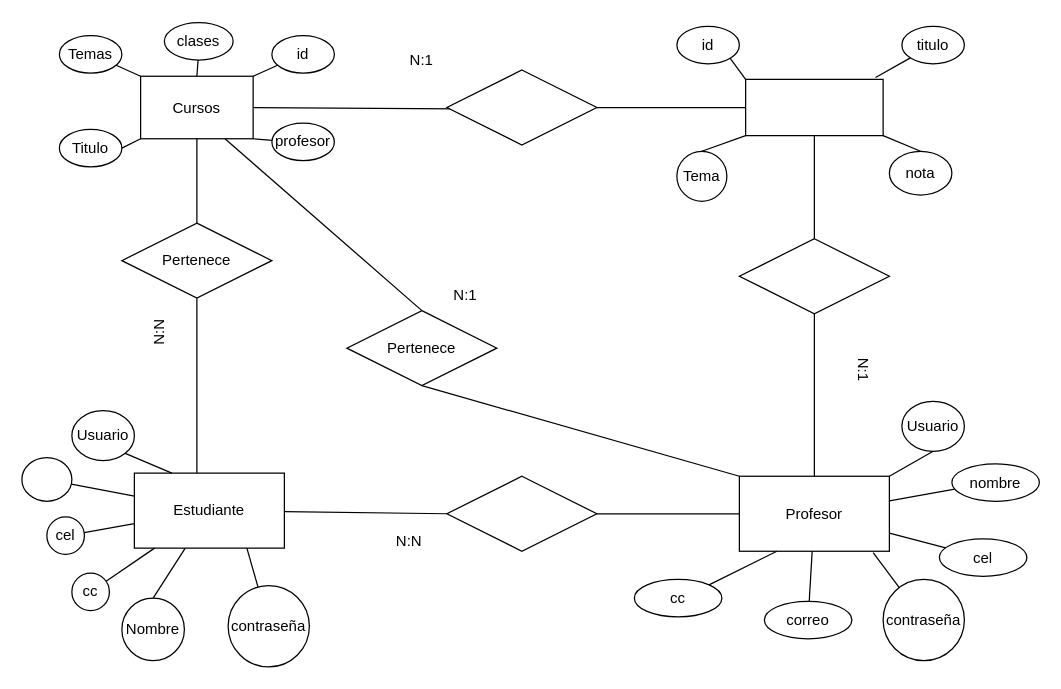
The diagram is 1061 pixels wide and 689 high, and some of its shapes have lost their labels. The box of each missing label's shape, as (x1, y1, x2, y2) in pixels:
Contiene: (446, 69, 597, 145)
email: (21, 456, 72, 501)
Generan: (738, 238, 889, 314)
Tareas: (744, 78, 883, 136)
Tienen: (446, 475, 597, 551)
